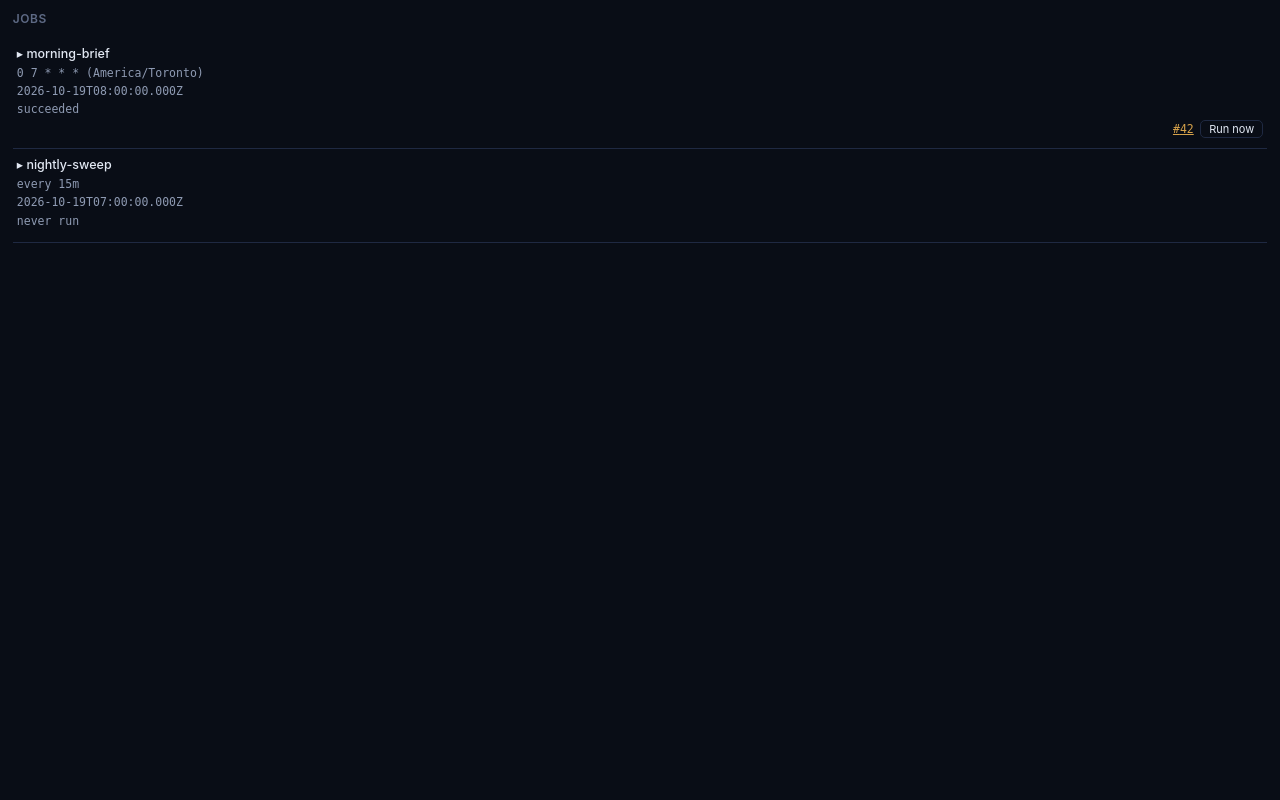
it: JobsPanel › expanding shows runs newest first with version + manual + error, and revisions with changedBy and the diff styling
Click the button that starts with "morning-brief": point(110, 82) [13,43,208,120]
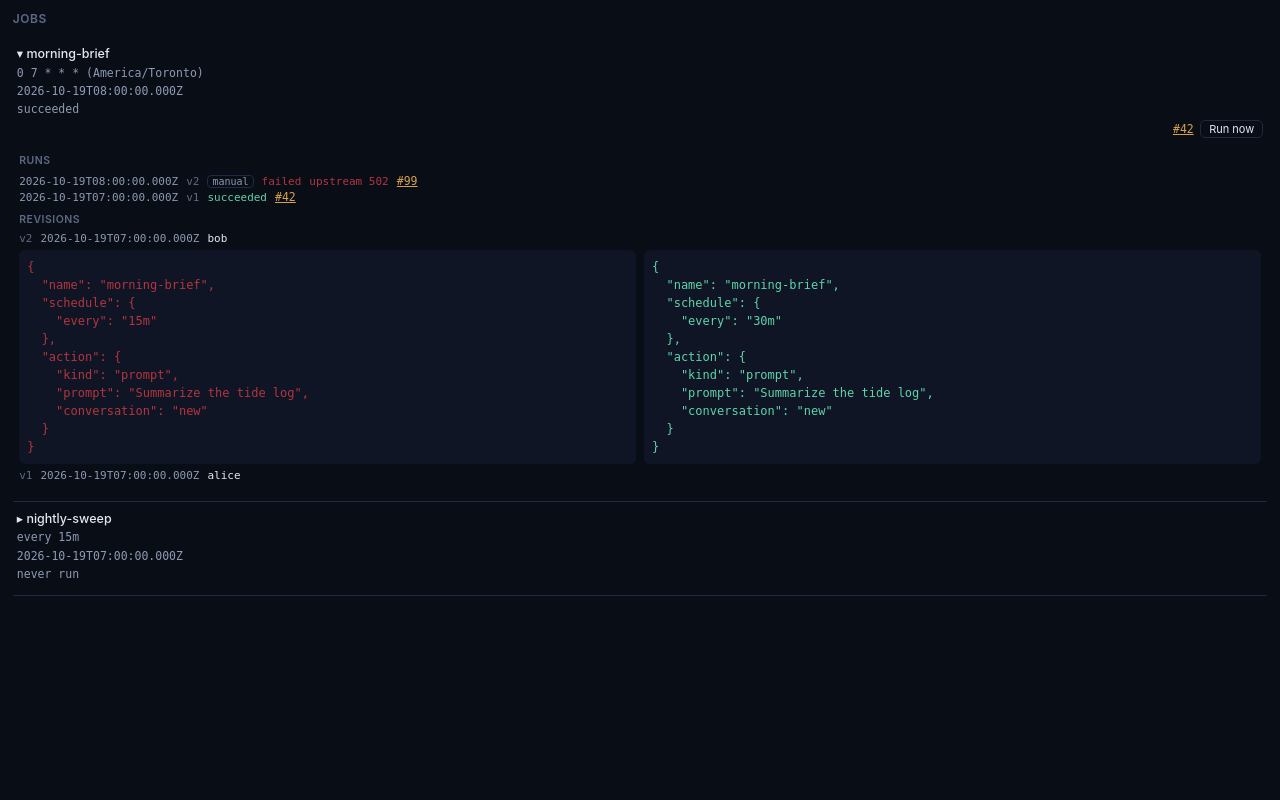
Result: the text "v2" is shown at [186,175,199,188]
Result: the text "manual" is shown at [207,175,254,188]
Result: the text "upstream 502" is shown at [309,175,389,188]
